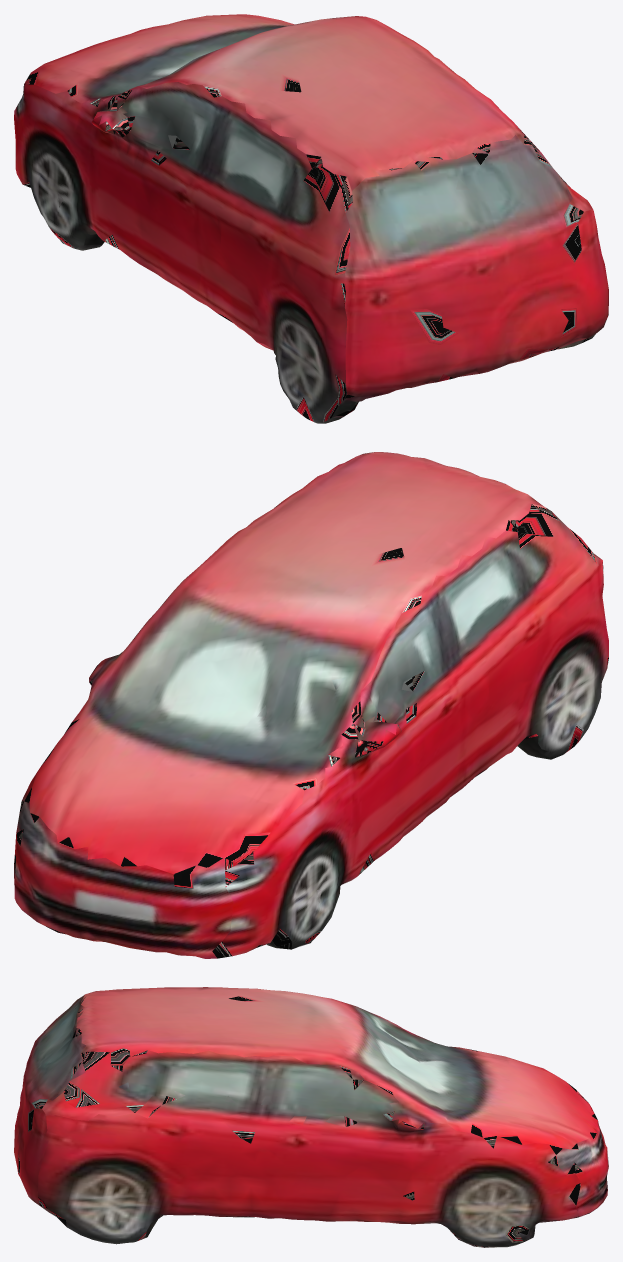
File: hatch.glb
3 views of the same model, one above another, from view 1: azimuth 30°, elevation 25°; view 2: azimuth 150°, elevation 25°; view 3: azimuth 270°, elevation 25° (orthographic). The views are drawn at different scales.
Visible parts, largest first — view 1: corpo; view 2: corpo; view 3: corpo.
Part boxes in pixels (x1,y1,x2,y2): corpo: [14, 14, 608, 423]; corpo: [14, 452, 608, 958]; corpo: [14, 987, 608, 1247].
Size of the model in its own units: 1.75 by 1.5 by 4.1.
1 material, 1 textured.
